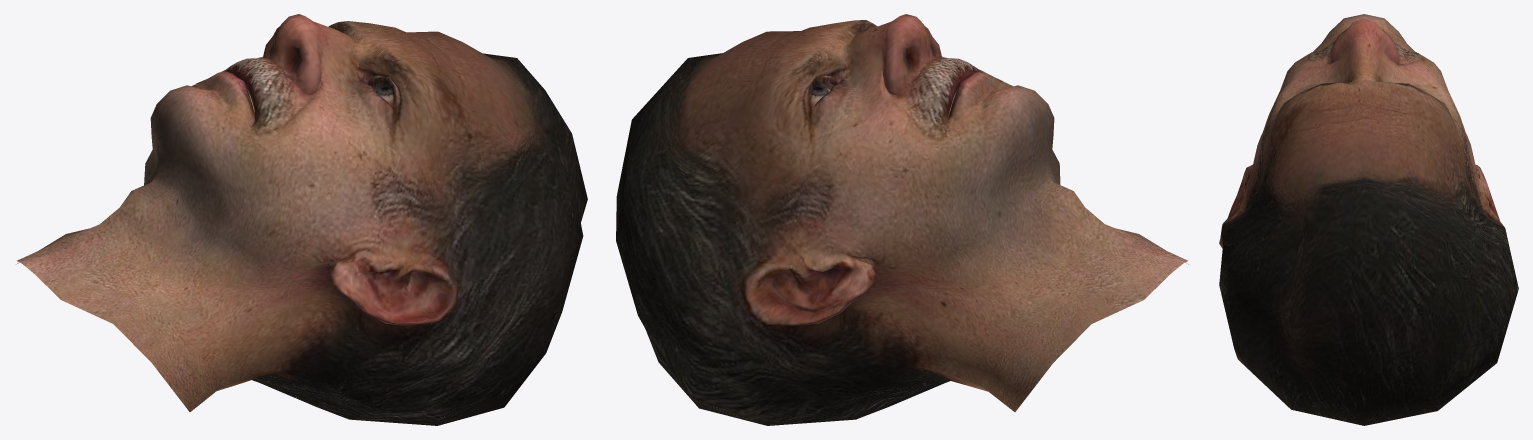
File: head_us_ranger_harry_low.glb
3 views of the same model, side by side, from view 1: azimuth 30°, elevation 25°; view 2: azimuth 150°, elevation 25°; view 3: azimuth 270°, elevation 25° (orthographic). The views are drawn at different scales.
Bounding box in the file's own units: 13.63 × 10.16 × 8.01.
1 material, 1 textured.
